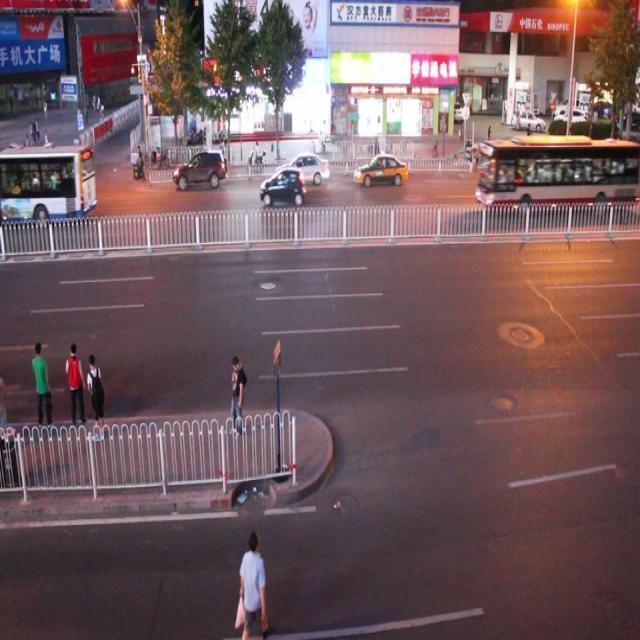BigCar: (479, 139, 637, 206), (0, 148, 97, 219)
car: (174, 150, 230, 196), (354, 152, 409, 191), (257, 170, 307, 210), (284, 147, 331, 187), (510, 99, 546, 134)
